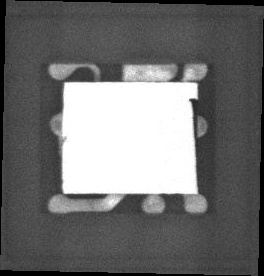DIE_BROKEN: (187, 92, 197, 190)
